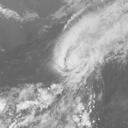cyclone: (53, 41, 94, 82)
